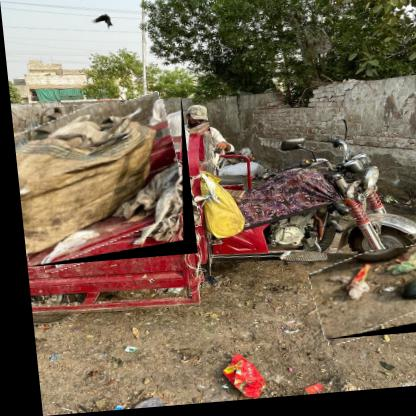Garbage: (10, 101, 194, 269), (303, 252, 416, 348)
